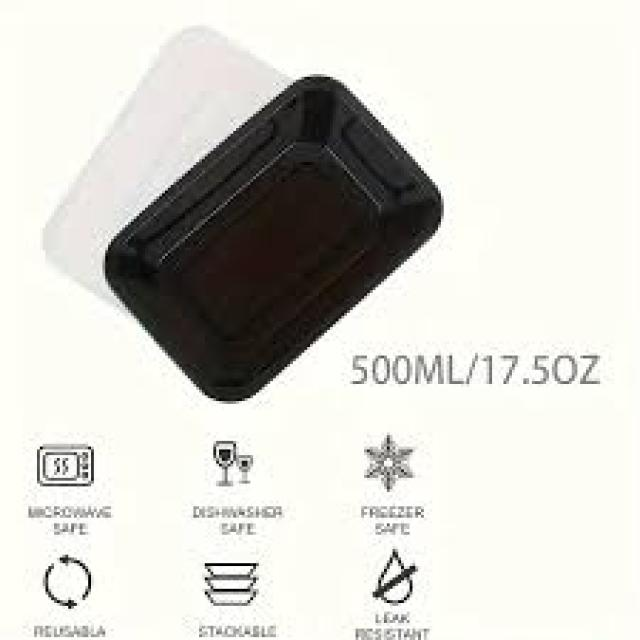disposable: (104, 76, 456, 411)
